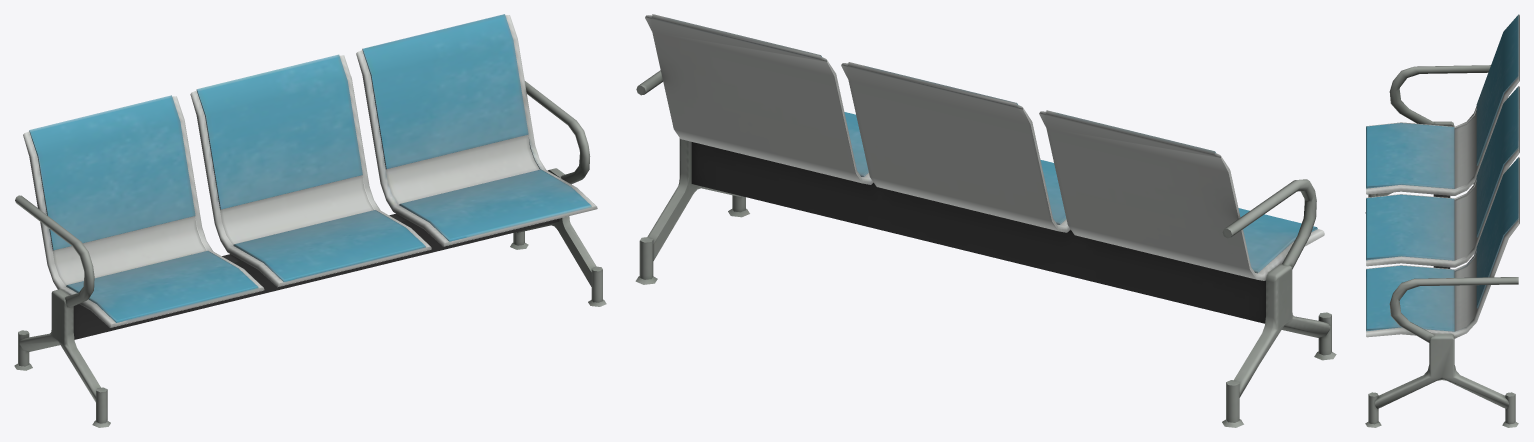
The model's file is hospital_bench.fefed59e31.glb.
3 renders of one model, left to right at view 1: azimuth 30°, elevation 25°; view 2: azimuth 150°, elevation 25°; view 3: azimuth 270°, elevation 25°, orthographic. The views are drawn at different scales.
Visible parts, largest first — view 1: hospital_bench; view 2: hospital_bench; view 3: hospital_bench.
Boxes of the visible parts, left/top/right/bottom form: hospital_bench: left=14, top=14, right=606, bottom=427; hospital_bench: left=635, top=14, right=1336, bottom=427; hospital_bench: left=1365, top=14, right=1519, bottom=427.
Bounding box in the file's own units: 2.03 × 0.8743 × 0.6052.
1 material, 1 textured.
